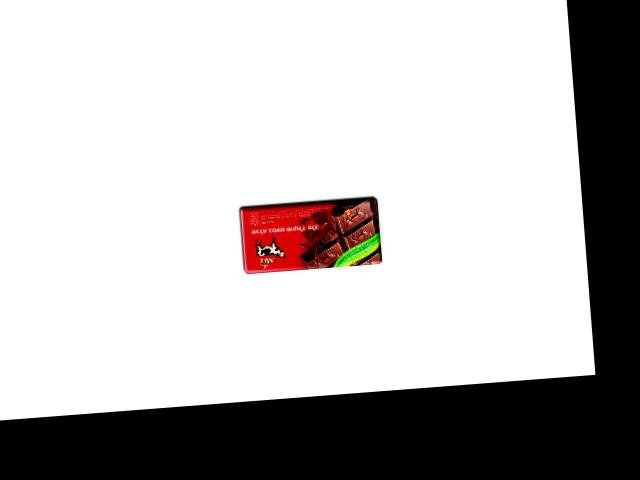chocolate: (234, 190, 382, 276)
